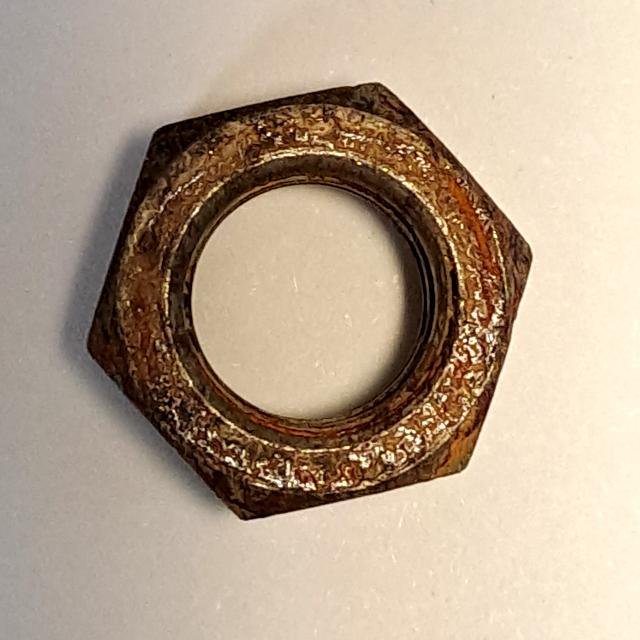Rust: (68, 55, 550, 545)
